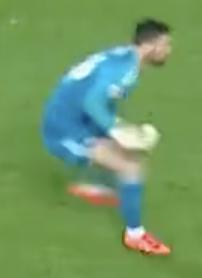goalkeeper: (15, 8, 202, 278)
